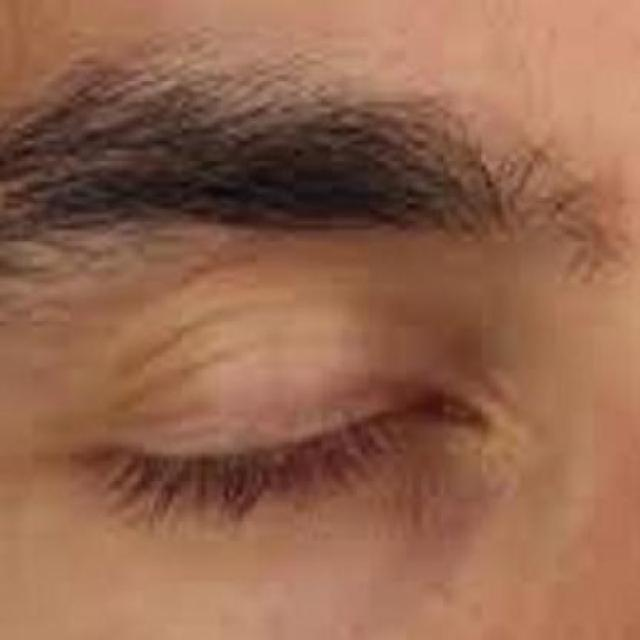drowsy: (59, 340, 466, 572)
